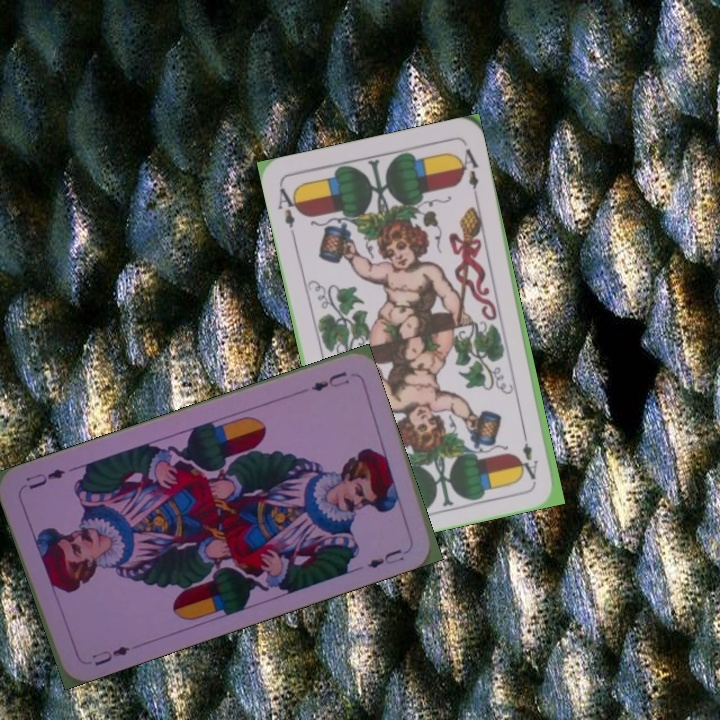EA: (273, 182, 302, 240), (518, 425, 541, 482)
EU: (88, 642, 133, 669), (307, 367, 352, 394)
